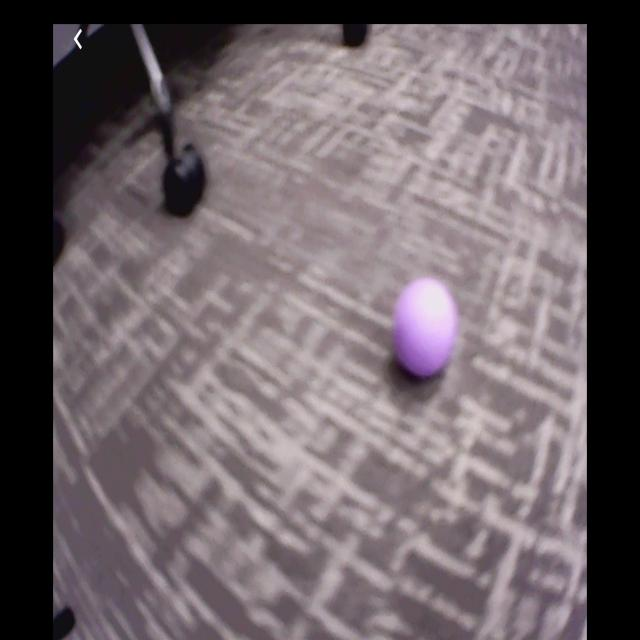ball: (394, 279, 456, 375)
